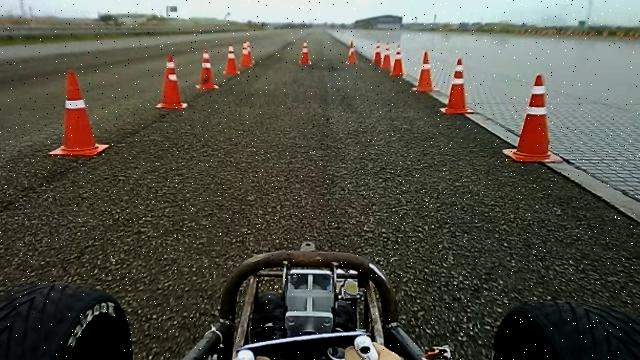red cone: (502, 73, 564, 164), (47, 69, 110, 158), (439, 57, 475, 115), (155, 54, 188, 110), (412, 50, 439, 93), (194, 47, 220, 90), (224, 44, 241, 76), (390, 44, 404, 77)
